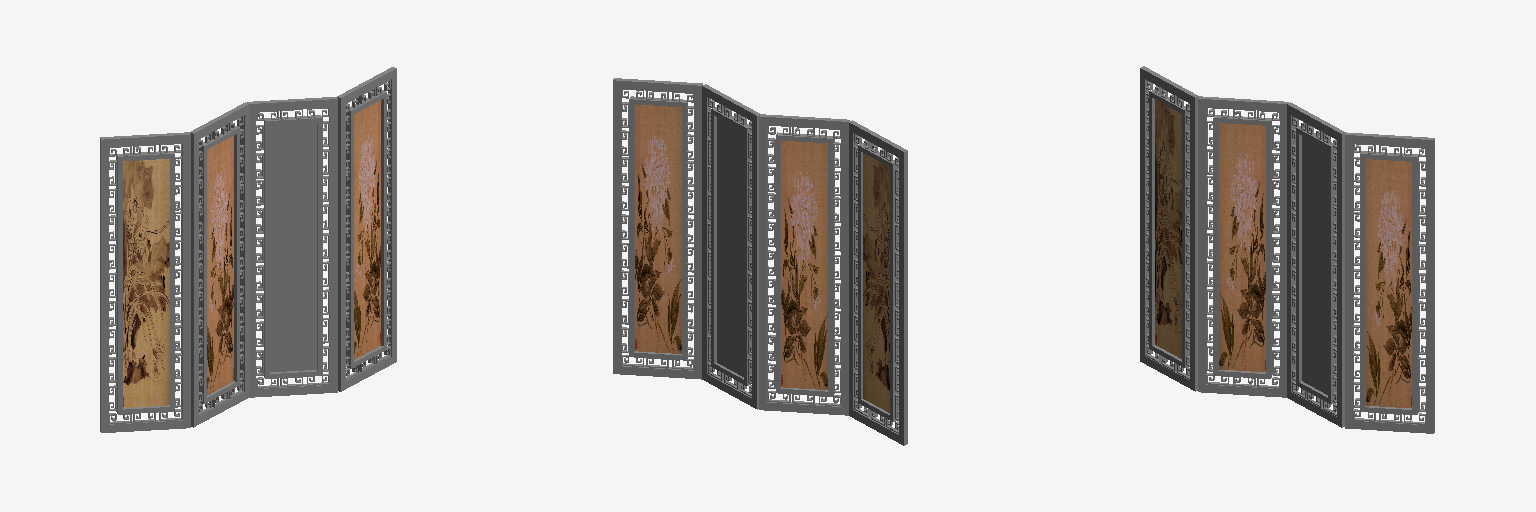
3 views of the same model, side by side, from view 1: azimuth 30°, elevation 25°; view 2: azimuth 150°, elevation 25°; view 3: azimuth 330°, elevation 25° (orthographic).
Visible parts, largest first — view 1: Plane03, Plane06, Rectangle14, Plane04, Plane05, Rectangle29, Rectangle27, Rectangle25, Rectangle26, Rectangle23, Rectangle24, Rectangle28; view 2: Plane04, Plane05, Plane03, Plane06, Rectangle25, Rectangle27, Rectangle14, Rectangle29, Rectangle28, Rectangle24, Rectangle23, Rectangle26; view 3: Plane04, Plane05, Plane03, Rectangle27, Plane06, Rectangle25, Rectangle14, Rectangle29, Rectangle28, Rectangle24, Rectangle26, Rectangle23.
Boxes of the visible parts, x1,y1,x2,y2 form: Plane03: [123, 159, 169, 407]; Plane06: [270, 123, 316, 371]; Rectangle14: [100, 132, 190, 432]; Plane04: [207, 136, 233, 394]; Plane05: [354, 100, 380, 359]; Rectangle29: [247, 97, 337, 397]; Rectangle27: [337, 67, 396, 391]; Rectangle25: [190, 102, 248, 427]; Rectangle26: [264, 115, 322, 378]; Rectangle23: [116, 151, 174, 414]; Rectangle24: [199, 126, 239, 403]; Rectangle28: [346, 90, 386, 368]; Plane04: [781, 141, 827, 389]; Plane05: [635, 104, 681, 353]; Plane03: [863, 153, 889, 412]; Plane06: [717, 117, 743, 376]; Rectangle25: [759, 114, 849, 415]; Rectangle27: [613, 78, 702, 379]; Rectangle14: [849, 120, 907, 445]; Rectangle29: [702, 84, 760, 409]; Rectangle28: [629, 96, 687, 360]; Rectangle24: [776, 132, 834, 396]; Rectangle23: [858, 143, 898, 421]; Rectangle26: [711, 107, 751, 385]; Plane04: [1219, 123, 1265, 371]; Plane05: [1366, 159, 1411, 407]; Plane03: [1155, 99, 1181, 358]; Rectangle27: [1345, 132, 1434, 433]; Plane06: [1302, 136, 1327, 394]; Rectangle25: [1198, 96, 1288, 397]; Rectangle14: [1140, 66, 1198, 391]; Rectangle29: [1287, 102, 1345, 427]; Rectangle28: [1360, 151, 1418, 414]; Rectangle24: [1213, 115, 1271, 378]; Rectangle26: [1296, 126, 1336, 404]; Rectangle23: [1149, 89, 1189, 367].
Bounding box in the file's own units: 1.89 × 1.8 × 0.2249.
4 materials, 2 textured.